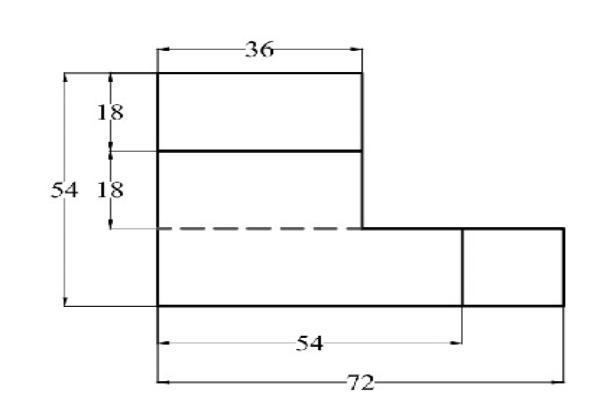dimensions: (342, 366, 381, 397), (243, 36, 277, 65), (295, 331, 328, 357), (47, 178, 84, 201), (95, 178, 127, 202), (95, 101, 127, 124)
